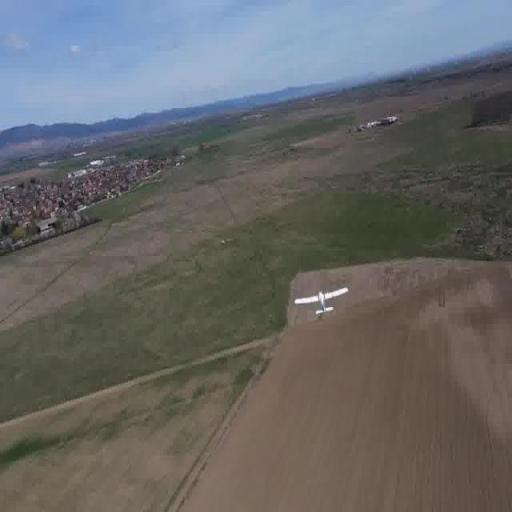uav: (288, 282, 350, 324)
